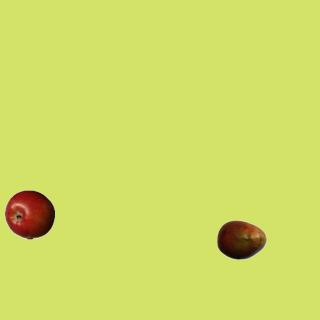Apple Braeburn: (4, 189, 54, 239)
Mango Red: (216, 214, 266, 264)
